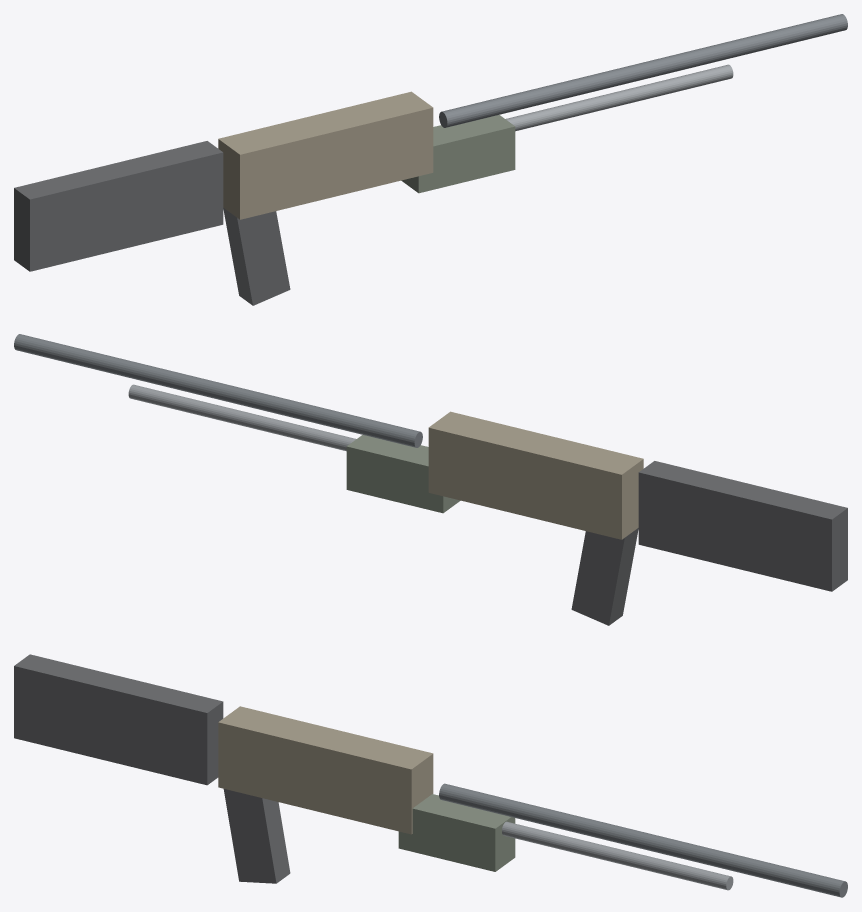
Rendered from metaverse-breacher-shotgun.gltf.
3 views of the same model, one above another, from view 1: azimuth 30°, elevation 25°; view 2: azimuth 150°, elevation 25°; view 3: azimuth 330°, elevation 25° (orthographic).
Visible parts, largest first — view 1: metaverse_breacher_shotgun_stock, metaverse_breacher_shotgun_receiver, metaverse_breacher_shotgun_barrel, metaverse_breacher_shotgun_pump, metaverse_breacher_shotgun_grip, metaverse_breacher_shotgun_tube; view 2: metaverse_breacher_shotgun_stock, metaverse_breacher_shotgun_receiver, metaverse_breacher_shotgun_barrel, metaverse_breacher_shotgun_pump, metaverse_breacher_shotgun_grip, metaverse_breacher_shotgun_tube; view 3: metaverse_breacher_shotgun_stock, metaverse_breacher_shotgun_receiver, metaverse_breacher_shotgun_barrel, metaverse_breacher_shotgun_pump, metaverse_breacher_shotgun_grip, metaverse_breacher_shotgun_tube.
Part boxes in pixels (<box>): metaverse_breacher_shotgun_stock: <box>14,141,223,271</box>; metaverse_breacher_shotgun_receiver: <box>218,91,433,219</box>; metaverse_breacher_shotgun_barrel: <box>439,14,847,127</box>; metaverse_breacher_shotgun_pump: <box>401,115,515,193</box>; metaverse_breacher_shotgun_grip: <box>223,208,290,305</box>; metaverse_breacher_shotgun_tube: <box>505,64,733,131</box>; metaverse_breacher_shotgun_stock: <box>638,461,847,591</box>; metaverse_breacher_shotgun_receiver: <box>428,411,643,539</box>; metaverse_breacher_shotgun_barrel: <box>14,334,422,447</box>; metaverse_breacher_shotgun_pump: <box>346,435,460,513</box>; metaverse_breacher_shotgun_grip: <box>571,528,638,625</box>; metaverse_breacher_shotgun_tube: <box>128,384,356,451</box>; metaverse_breacher_shotgun_stock: <box>14,654,223,785</box>; metaverse_breacher_shotgun_receiver: <box>218,706,433,834</box>; metaverse_breacher_shotgun_barrel: <box>439,783,847,897</box>; metaverse_breacher_shotgun_pump: <box>398,794,515,871</box>; metaverse_breacher_shotgun_grip: <box>223,789,290,883</box>; metaverse_breacher_shotgun_tube: <box>502,821,733,890</box>.
Size of the model in its own units: 1.19 by 0.2239 by 0.055.
